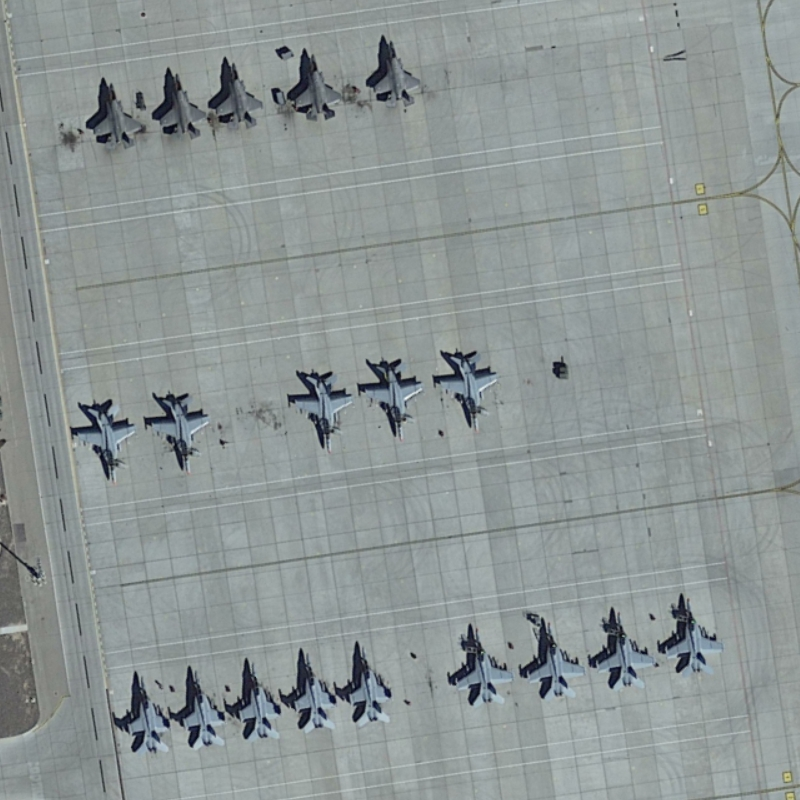A15: (365, 38, 427, 110), (90, 78, 147, 154), (290, 49, 348, 123), (210, 55, 266, 131), (157, 68, 210, 142)
A16: (65, 394, 142, 487), (141, 387, 218, 478), (432, 343, 508, 435), (284, 362, 359, 455), (356, 350, 429, 445), (445, 623, 519, 711), (586, 603, 659, 691), (655, 589, 727, 676), (518, 618, 589, 704), (338, 632, 398, 730), (117, 667, 178, 761), (285, 644, 345, 736), (230, 652, 288, 744), (177, 665, 234, 753)
